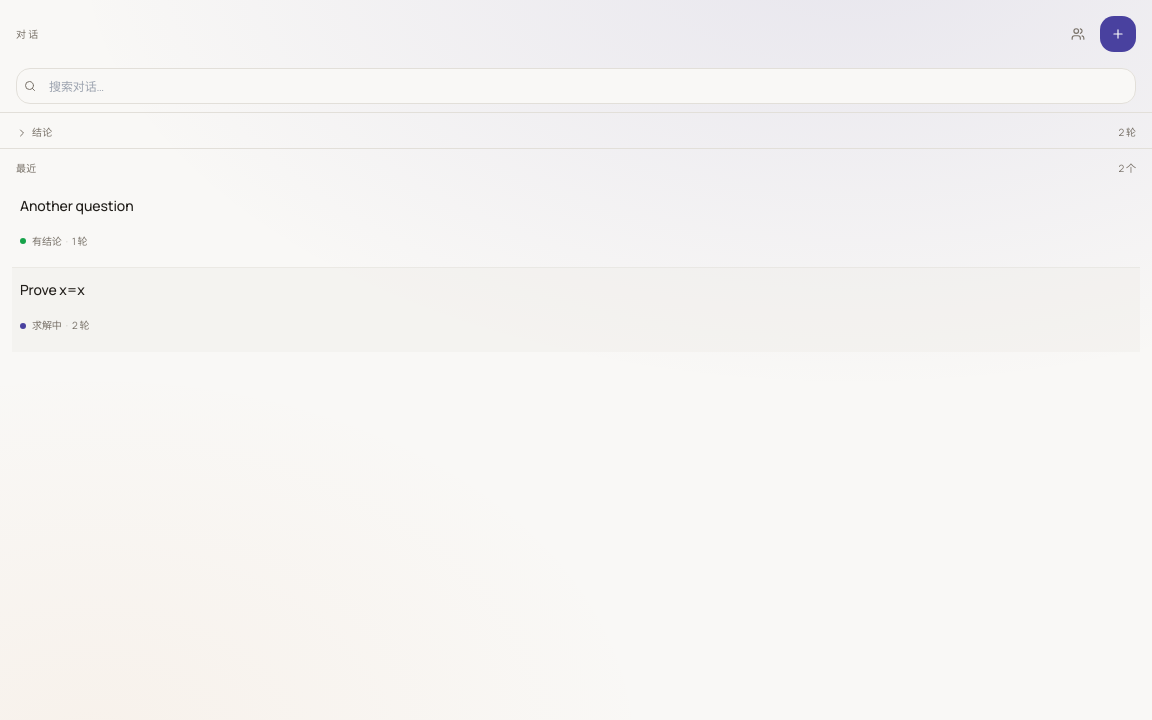
ExplorerPanel › keeps turn results collapsed behind a disclosure above the history list
Expected: the text "2 轮" is shown, [1119, 125, 1136, 140]
Expected: the text "Can you explain?" is not shown
Click the button "结论 2 轮" at (22,132), box [16, 121, 1136, 144]
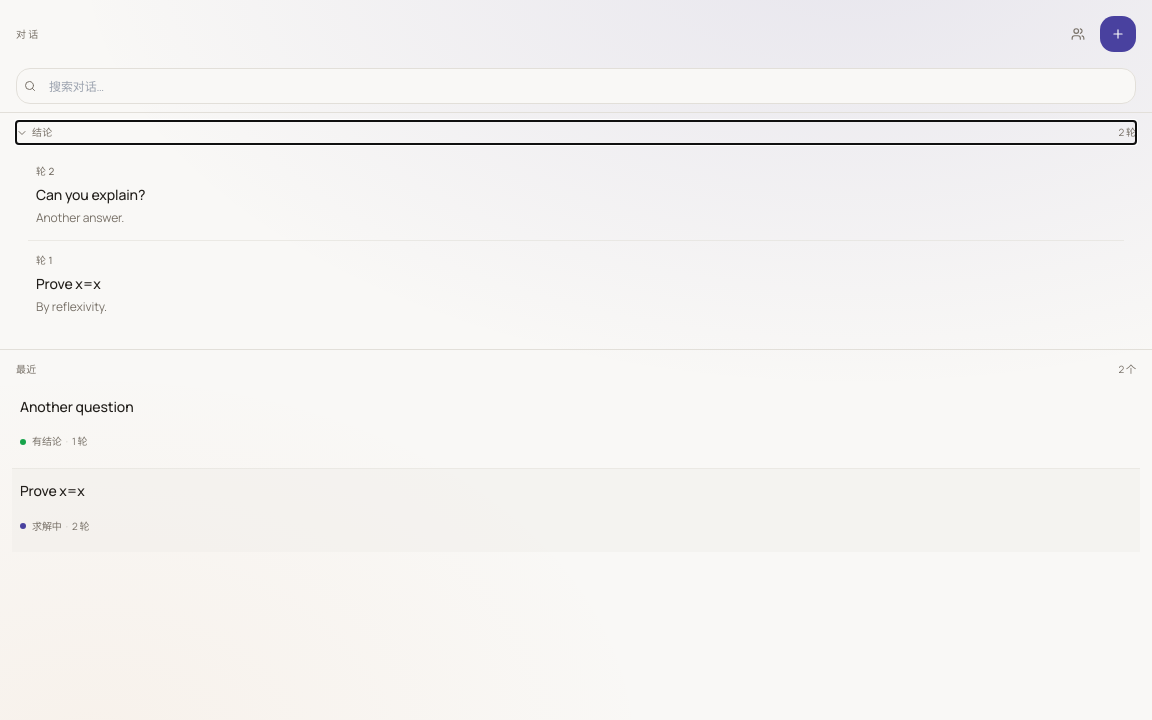
Now the button "结论 2 轮" is expanded, box [16, 121, 1136, 144]
Now the text "Can you explain?" is shown, box [36, 185, 145, 204]
